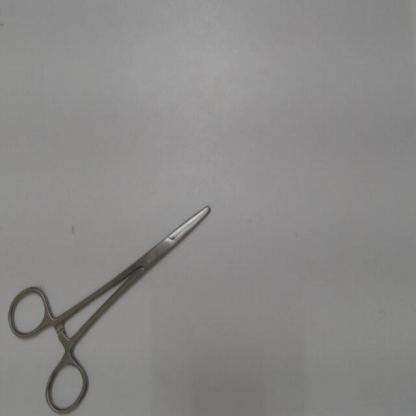Mayo Needle Holder: (4, 187, 220, 414)
